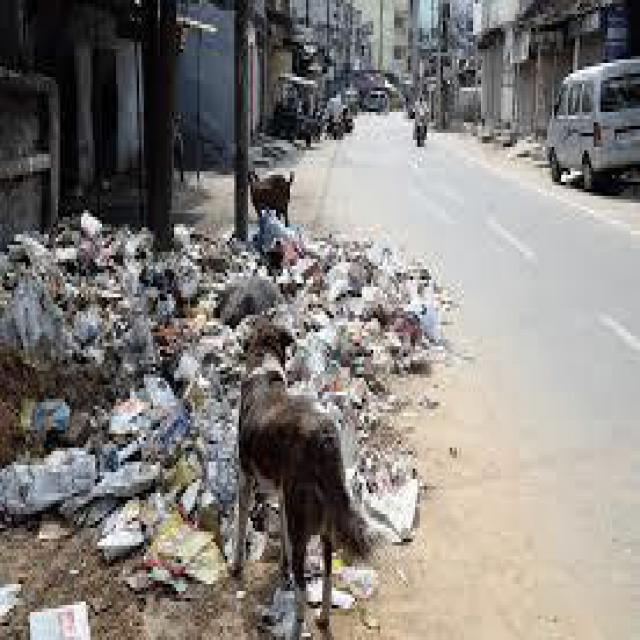garbage: (0, 234, 237, 546), (264, 224, 432, 385), (338, 378, 392, 497)
